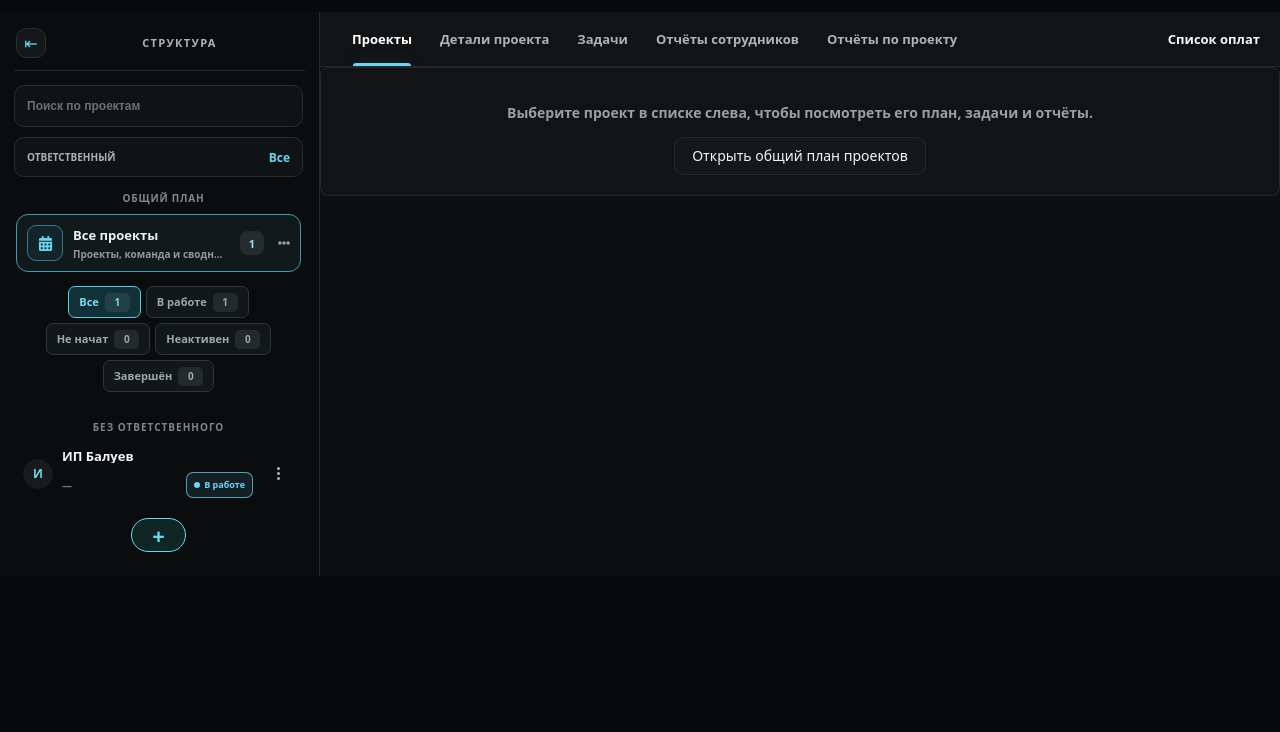
Scenario: Project report selection › allows all-project payments without implicitly selecting a project
The image size is (1280, 732).
Expected: the text "Выберите проект в списке слева" is shown, [507,103,1093,122]
Click the button "Список оплат" at coordinates (1209, 39), box [1158,12,1260,66]
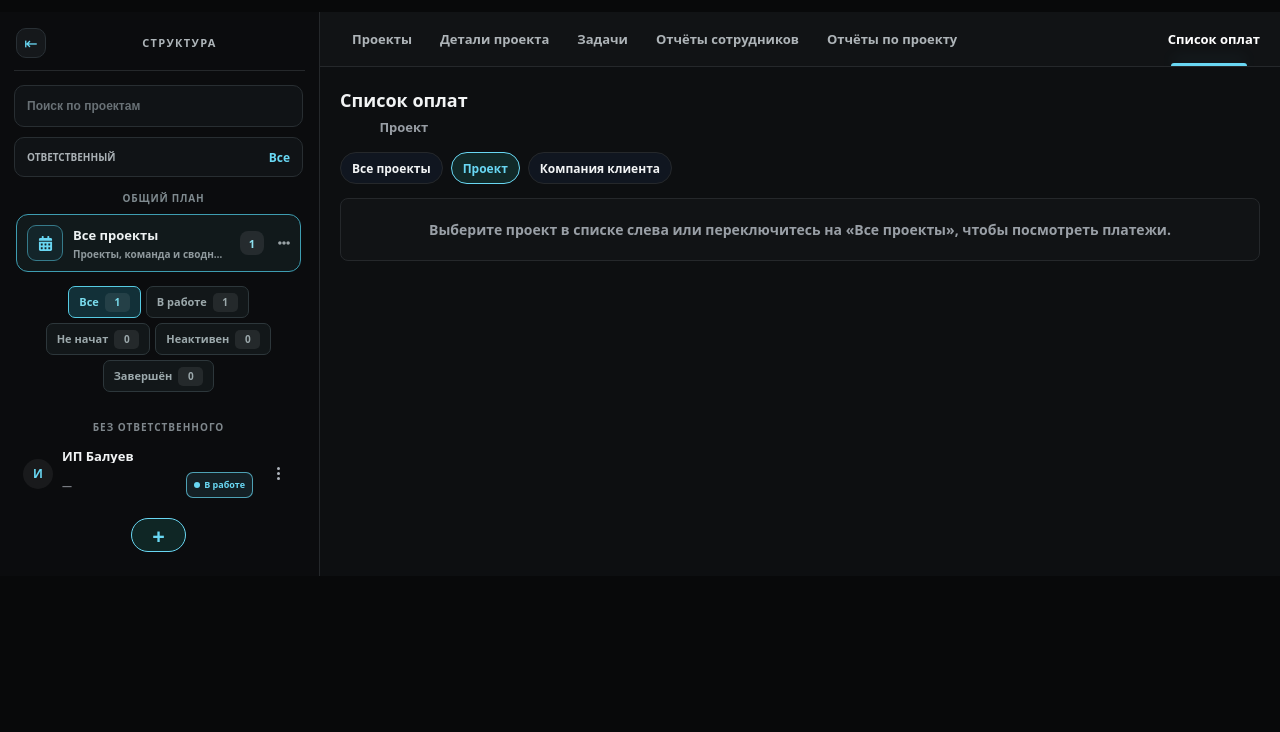
Expected: the heading "Список оплат" is shown, [340,87,468,114]
Expected: the text "переключитесь на «Все проекты»" is shown, [429,220,1171,239]
Click the button "Все проекты" at coordinates (391, 168), box [340,152,443,184]
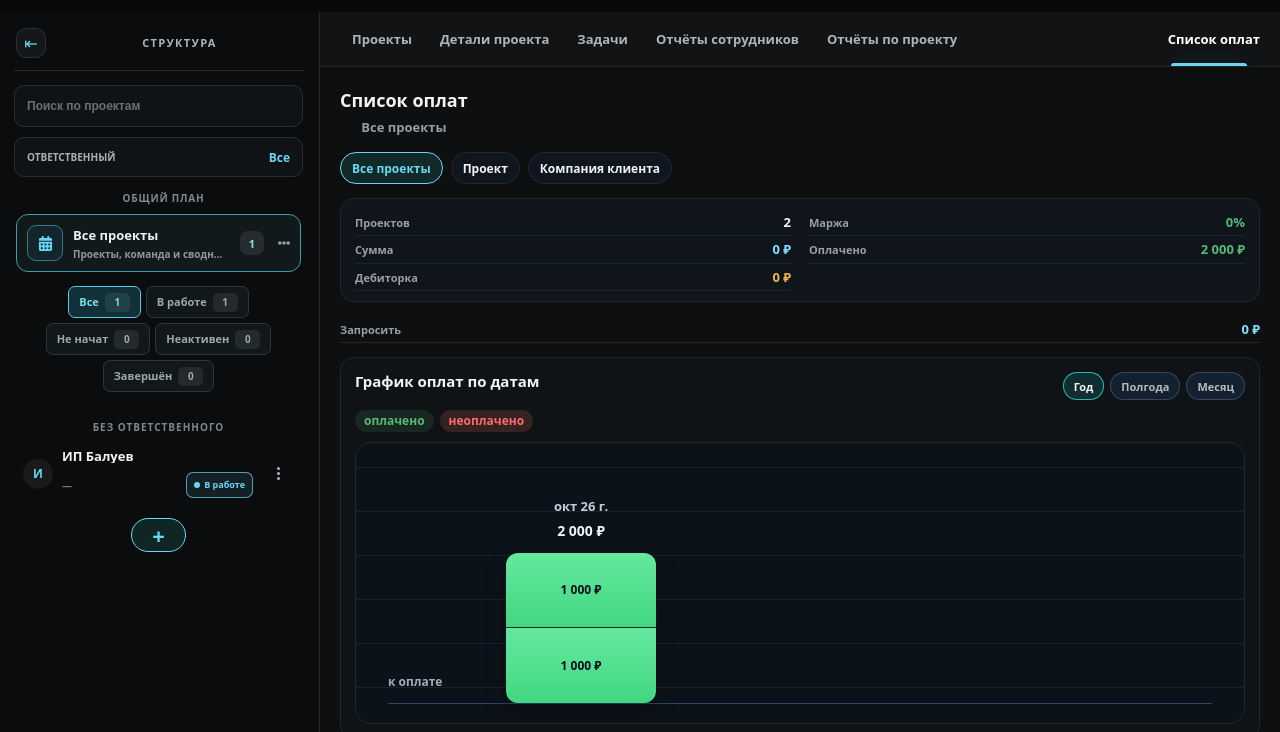
Click the button "Компания клиента" at coordinates (600, 168), box [528,152,672,184]
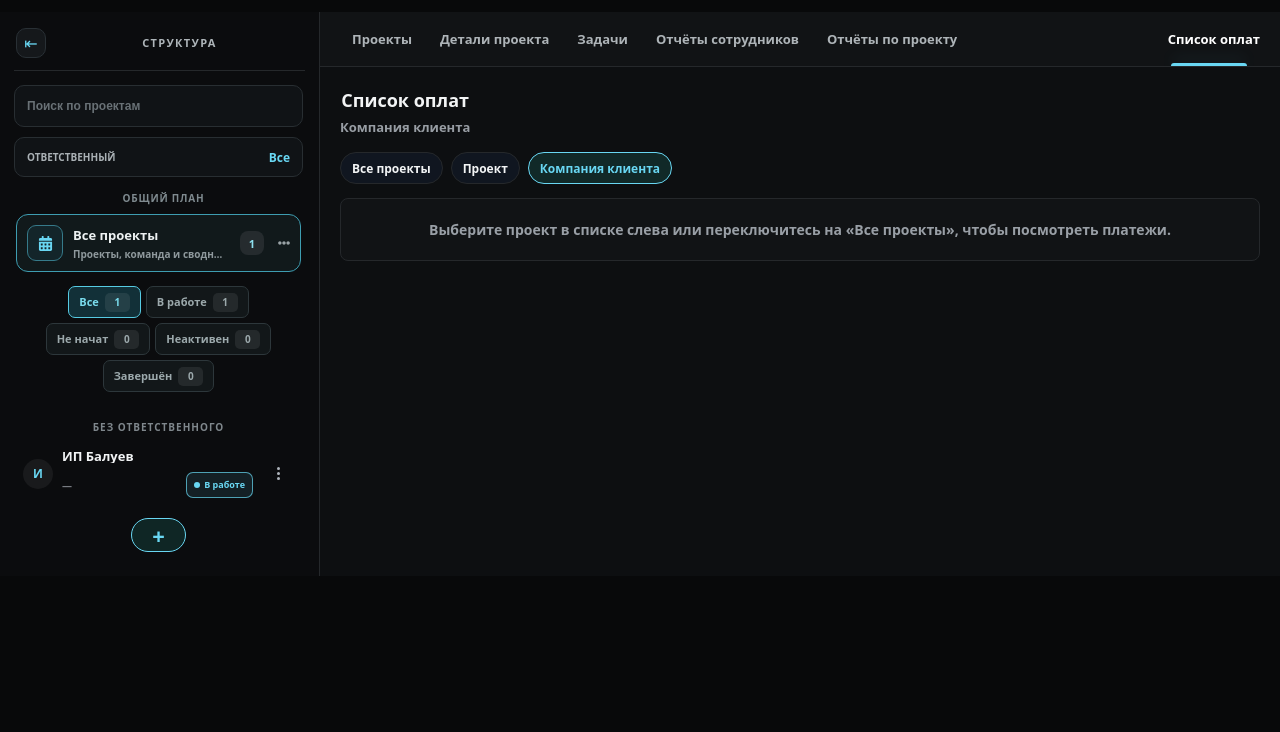
Expected: the text "переключитесь на «Все проекты»" is shown, [429,220,1171,239]
